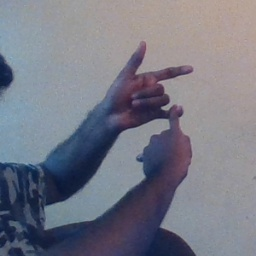S: (96, 32, 209, 183)
